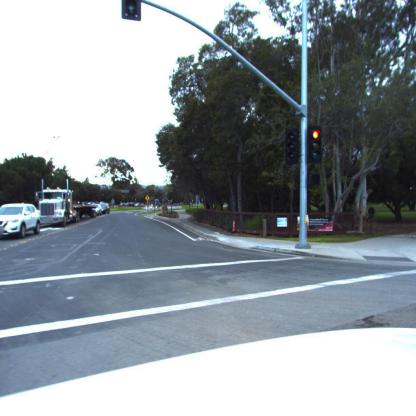car: (0, 202, 44, 240), (75, 202, 99, 218), (96, 203, 110, 217)
traffic light: (308, 127, 322, 167), (285, 130, 299, 166), (120, 0, 142, 21)
truck: (37, 189, 75, 229)
